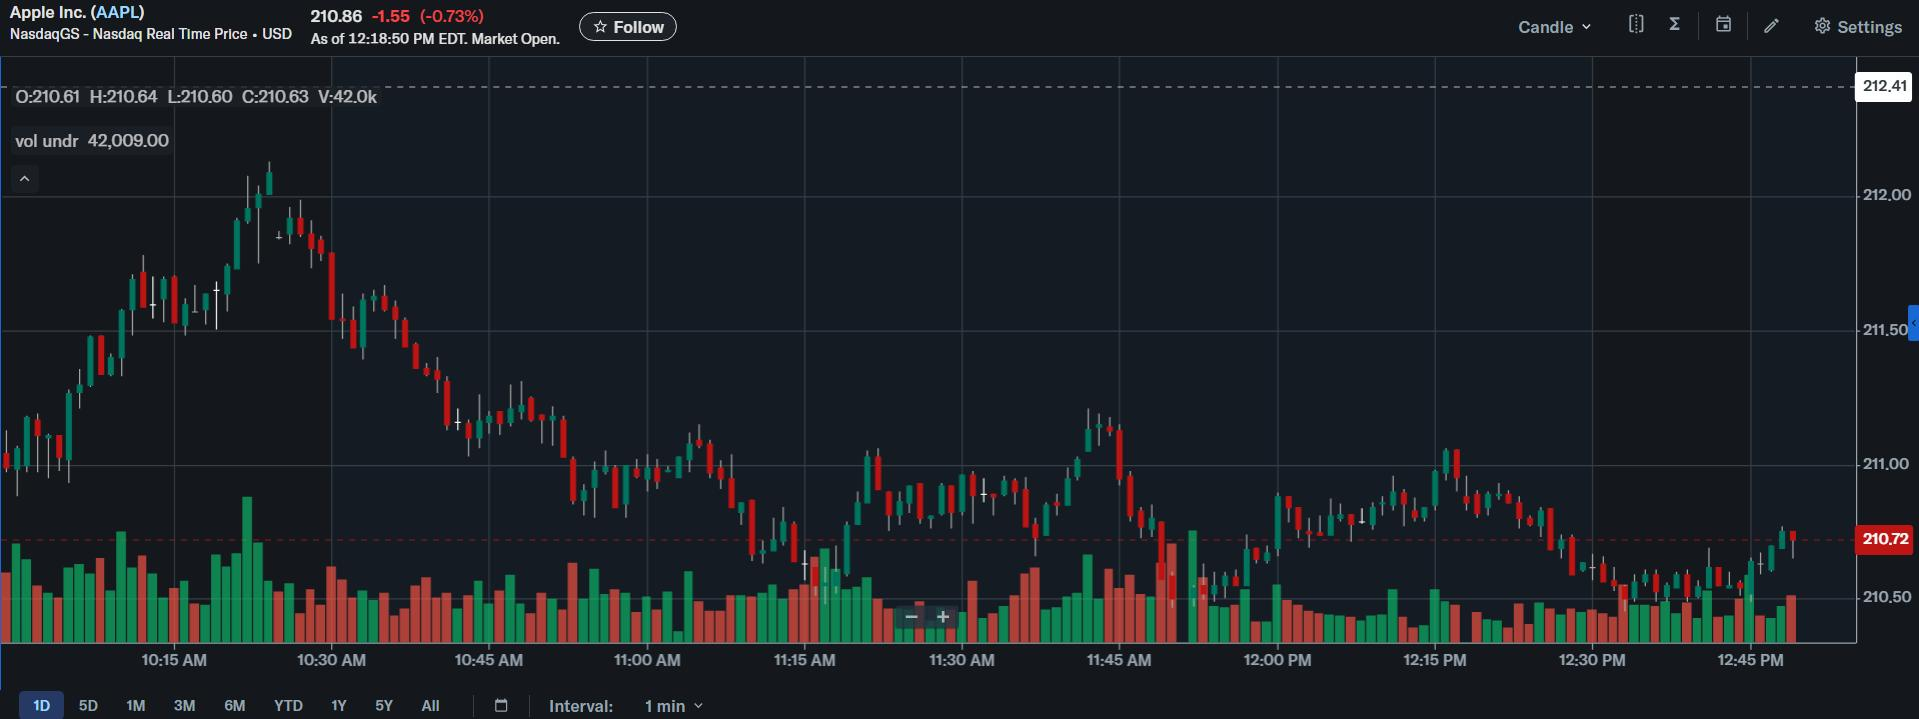Downtrend: (294, 189, 601, 552), (1442, 423, 1628, 600), (1110, 410, 1231, 603), (690, 423, 837, 573)
Sideways: (851, 439, 1037, 572)
Uptrend: (9, 167, 266, 505)
